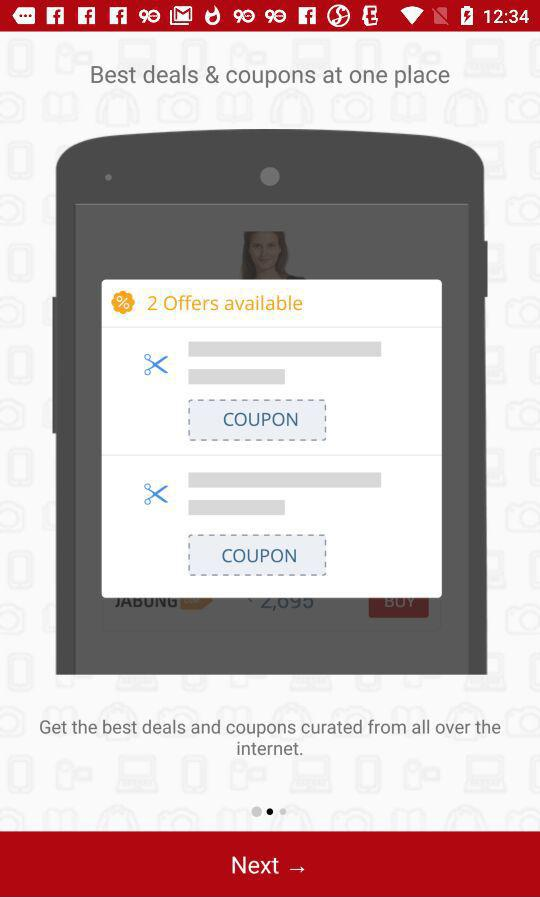Image: (52, 129, 489, 676)
PageIndicator: (250, 805, 289, 818)
Text: (40, 719, 501, 756), (91, 65, 450, 90)
TextButton: (1, 831, 540, 897)
UpperTaskBar: (1, 1, 540, 33)
